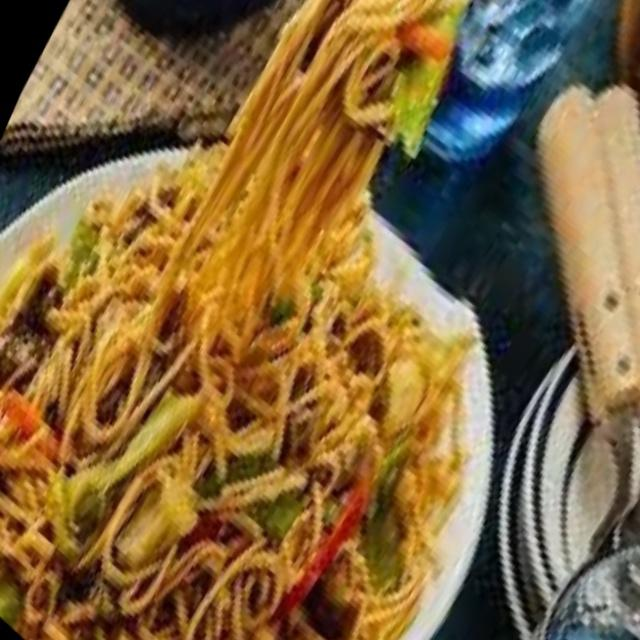pancit bihon: (0, 0, 466, 639)
